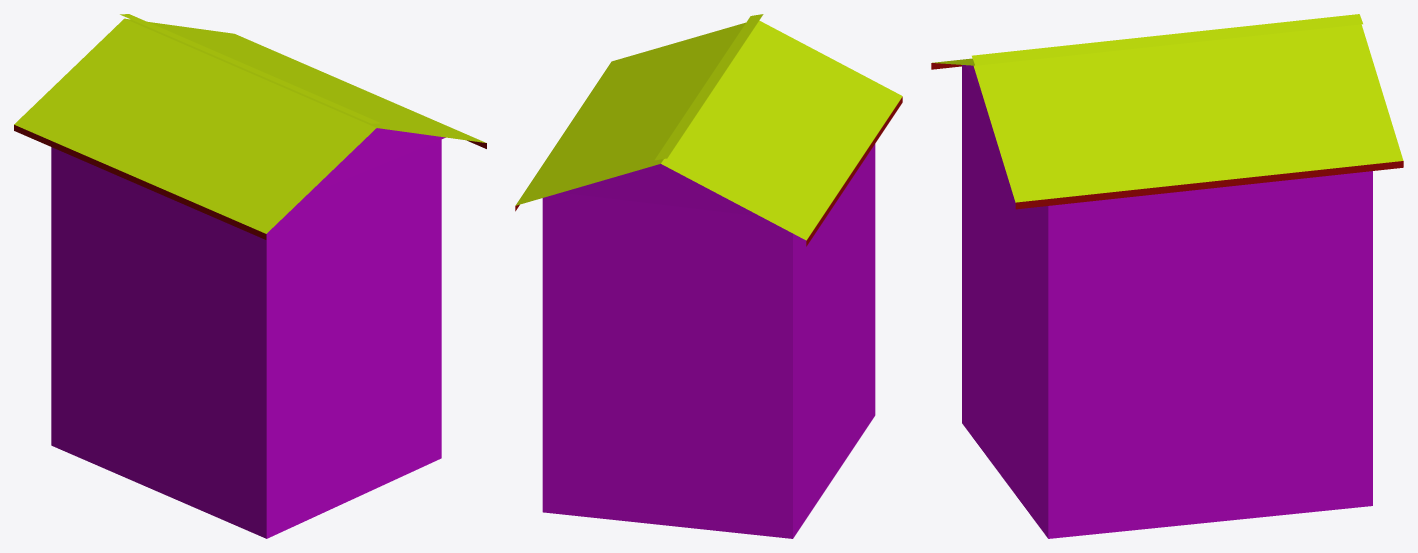
The model's file is sbl_40.glb.
3 renders of one model, left to right at view 1: azimuth 30°, elevation 25°; view 2: azimuth 150°, elevation 25°; view 3: azimuth 270°, elevation 25°, orthographic. The views are drawn at different scales.
Visible parts, largest first — view 1: sbl_40; view 2: sbl_40; view 3: sbl_40.
Part boxes in pixels (left/top/right/bottom): sbl_40: left=14, top=14, right=486, bottom=538; sbl_40: left=515, top=14, right=902, bottom=538; sbl_40: left=931, top=14, right=1403, bottom=538.
Size of the model in its own units: 6.81 by 7.46 by 7.48.
